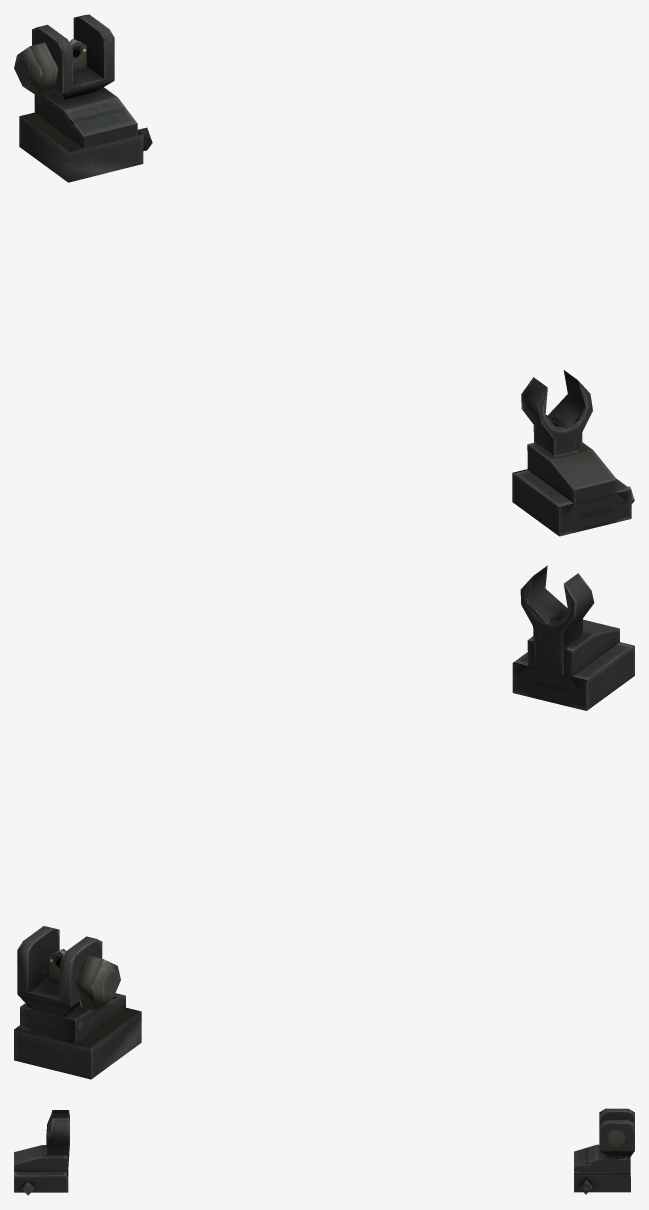
The model's file is Assault_Rifle_bq_mj_01_Scope_Main_(000097).glb.
3 views of the same model, one above another, from view 1: azimuth 30°, elevation 25°; view 2: azimuth 150°, elevation 25°; view 3: azimuth 270°, elevation 25° (orthographic). The views are drawn at different scales.
Visible parts, largest first — view 1: bq_mj_01; view 2: bq_mj_01; view 3: bq_mj_01.
Part boxes in pixels (box(x1,y1,x2,y2)): bq_mj_01: box(14, 14, 634, 536); bq_mj_01: box(14, 565, 634, 1079); bq_mj_01: box(14, 1108, 634, 1195).
Size of the model in its own units: 0.0679 by 0.079 by 0.6424.
Materials: 2 (2 with a texture image).
